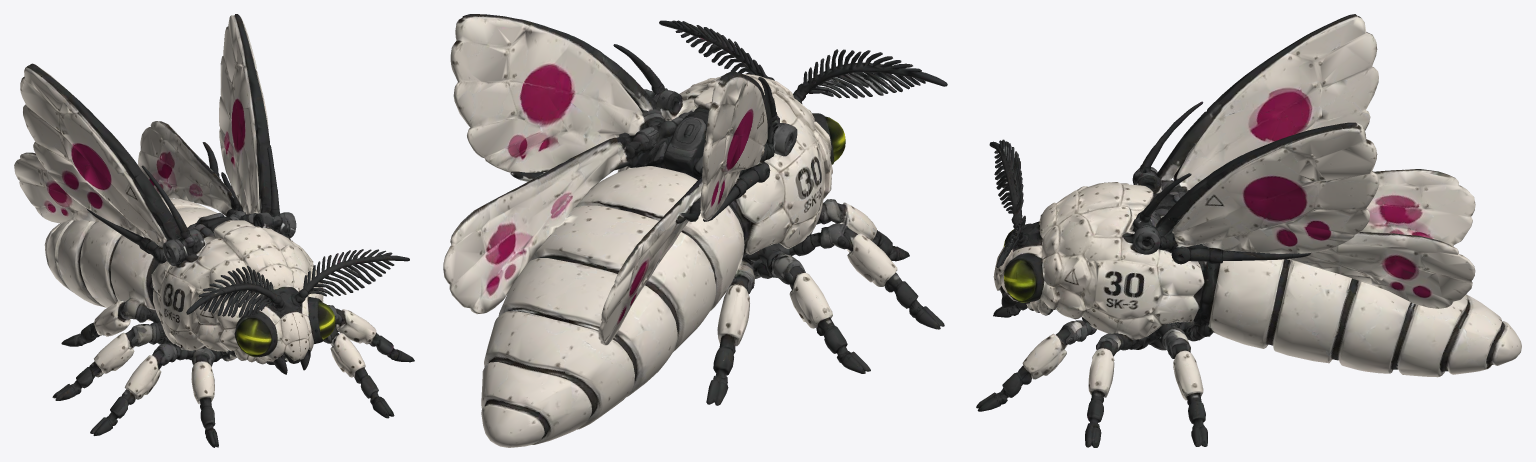
File: moth.glb
3 renders of one model, left to right at view 1: azimuth 30°, elevation 25°; view 2: azimuth 150°, elevation 25°; view 3: azimuth 270°, elevation 25°, orthographic. The views are drawn at different scales.
Size of the model in its own units: 2.49 by 2.06 by 3.4.
Materials: 1 (1 with a texture image).
